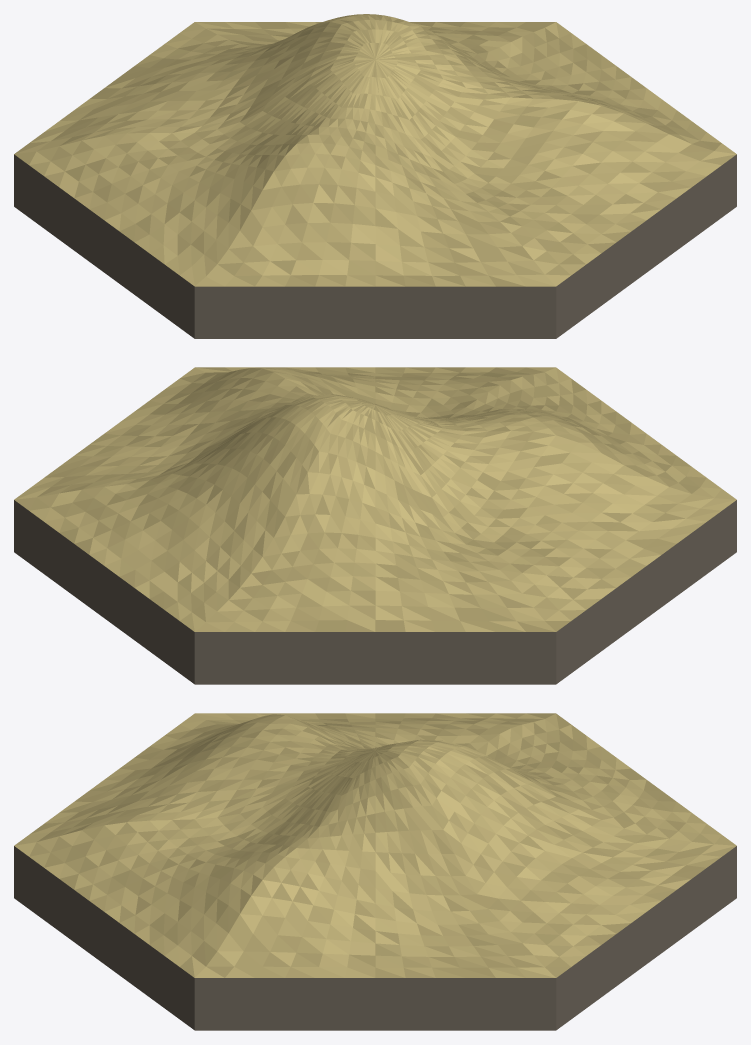
The model's file is TERRAIN_PLAINS_HILLS_v01.fbx.
The picture shows the model from 3 angles, top to bottom: view 1: azimuth 30°, elevation 25°; view 2: azimuth 150°, elevation 25°; view 3: azimuth 270°, elevation 25°; orthographic projection.
Visible parts, largest first — view 1: TERRAIN_PLAINS_HILLS_v01; view 2: TERRAIN_PLAINS_HILLS_v01; view 3: TERRAIN_PLAINS_HILLS_v01.
Part boxes in pixels (x1,y1,x2,y2): TERRAIN_PLAINS_HILLS_v01: (14,14,736,338); TERRAIN_PLAINS_HILLS_v01: (14,367,736,684); TERRAIN_PLAINS_HILLS_v01: (14,713,736,1030).
Bounding box in the file's own units: 173 × 49.43 × 200.
